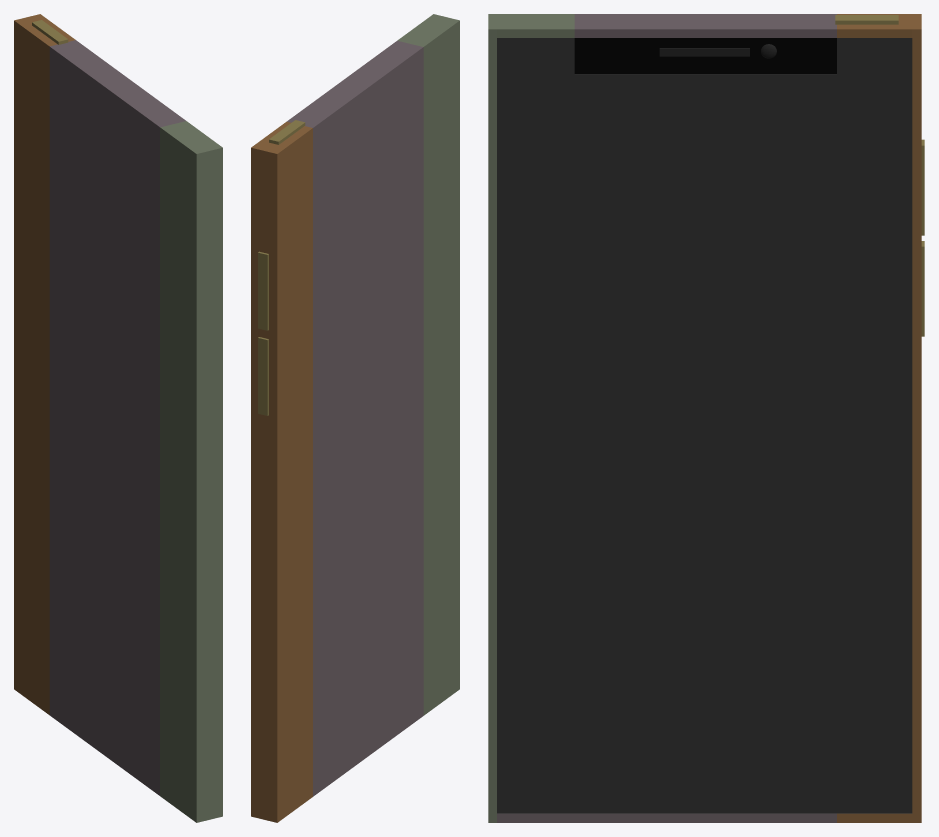
File: telefoon-merged.glb
3 renders of one model, left to right at view 1: azimuth 30°, elevation 25°; view 2: azimuth 150°, elevation 25°; view 3: azimuth 270°, elevation 25°, orthographic. The views are drawn at different scales.
Visible parts, largest first — view 1: telefoon; view 2: telefoon; view 3: telefoon.
Boxes of the visible parts, x1,y1,x2,y2 form: telefoon: (14, 14, 222, 822); telefoon: (251, 14, 459, 822); telefoon: (488, 14, 924, 822).
Size of the model in its own units: 0.044 by 1.01 by 0.5027.
